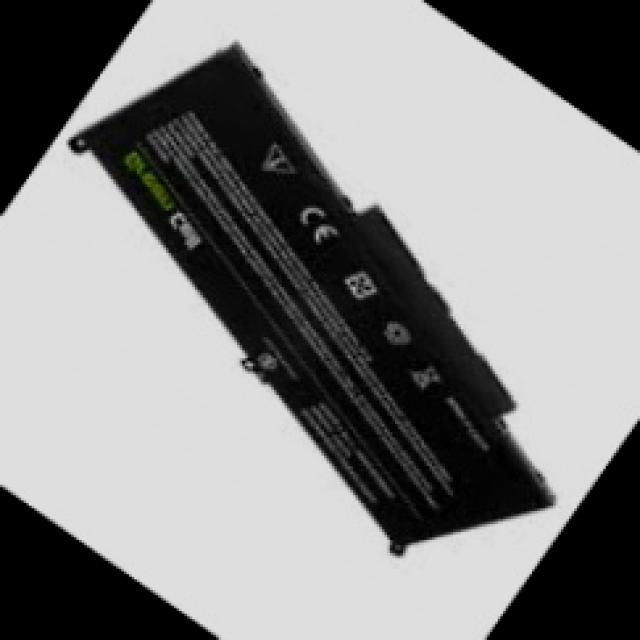elektronik: (90, 47, 328, 514)
